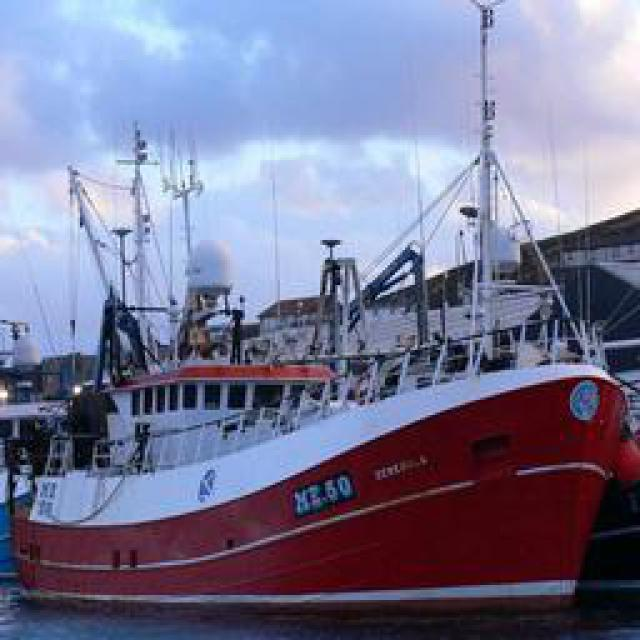Ship: (15, 43, 630, 621)
